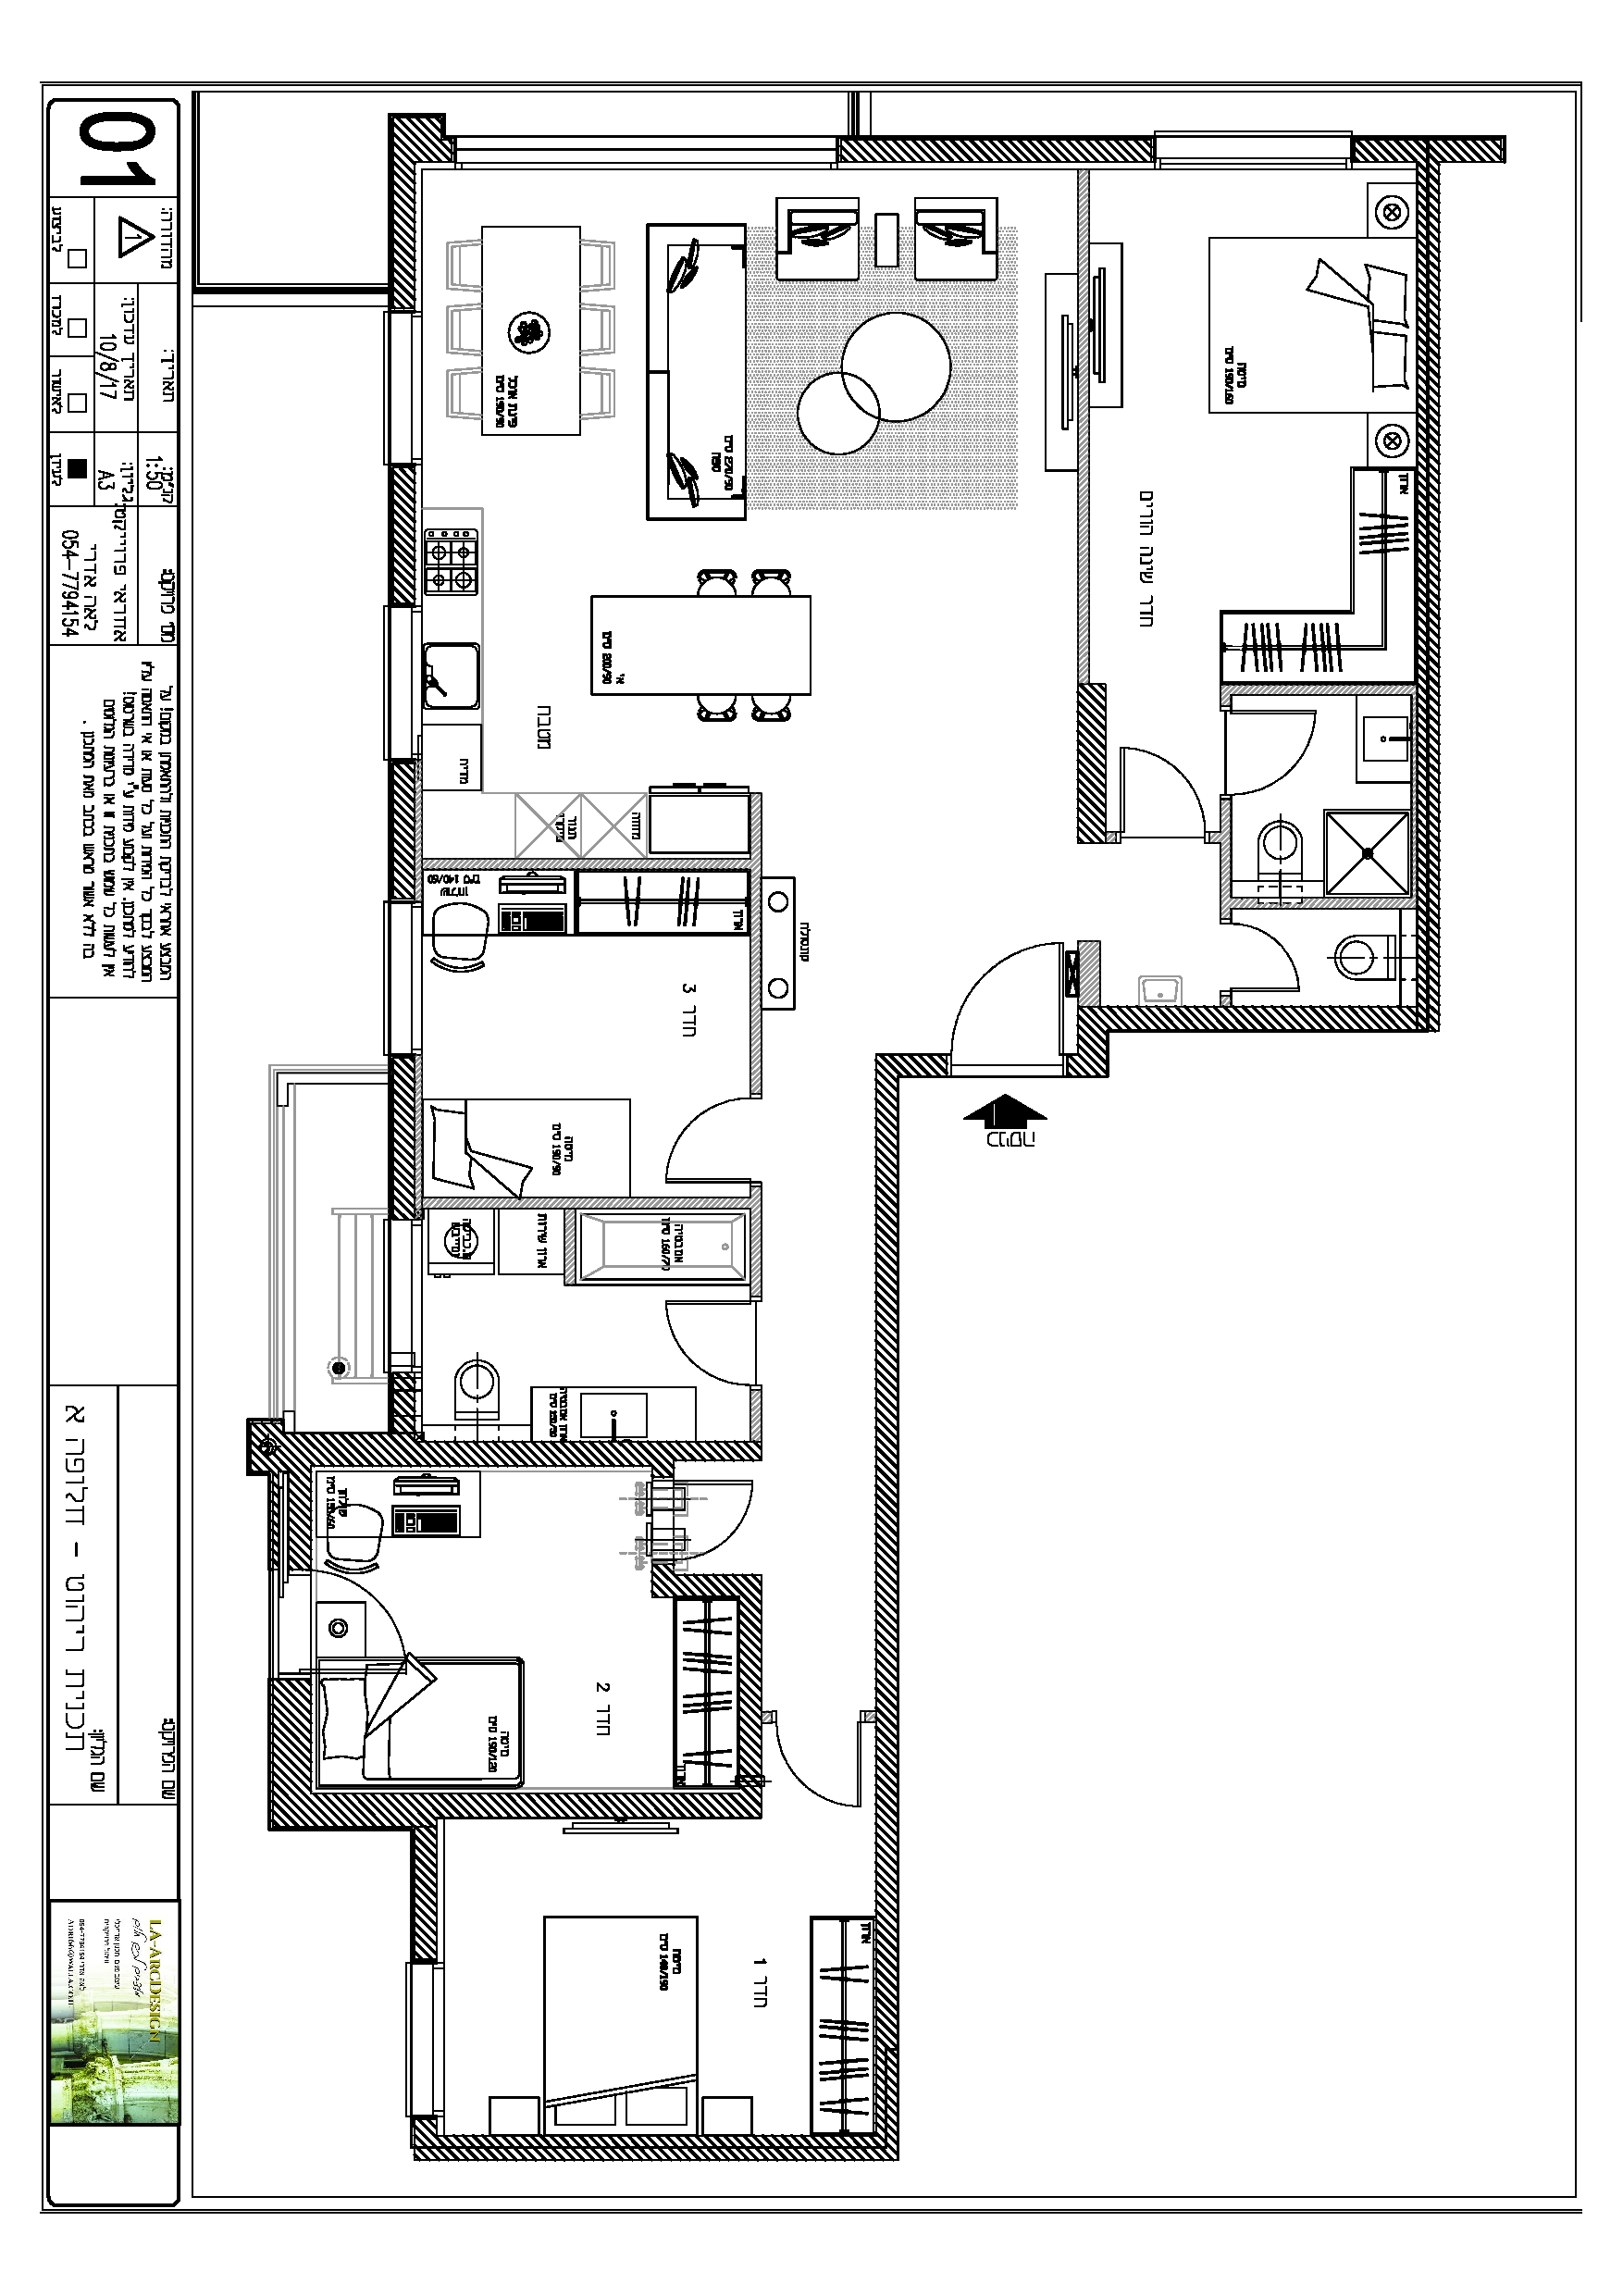door: (922, 929, 1068, 1042), (769, 1732, 871, 1822), (646, 1091, 734, 1189), (1114, 741, 1210, 824), (660, 1293, 745, 1383), (1245, 704, 1326, 798), (696, 1472, 773, 1560), (1240, 921, 1314, 996)
wall: (876, 1059, 898, 2045), (838, 135, 1151, 162), (292, 1444, 754, 1460), (1077, 1010, 1417, 1028), (413, 2150, 892, 2162), (1078, 170, 1089, 680), (423, 1198, 759, 1210), (1078, 685, 1103, 843), (738, 1579, 757, 1778), (413, 1794, 432, 1960), (750, 1188, 761, 1296)
window: (453, 128, 840, 179), (1154, 125, 1352, 179), (364, 899, 430, 1056), (390, 1960, 457, 2117), (376, 313, 434, 464), (376, 1217, 429, 1374), (374, 606, 425, 761)
